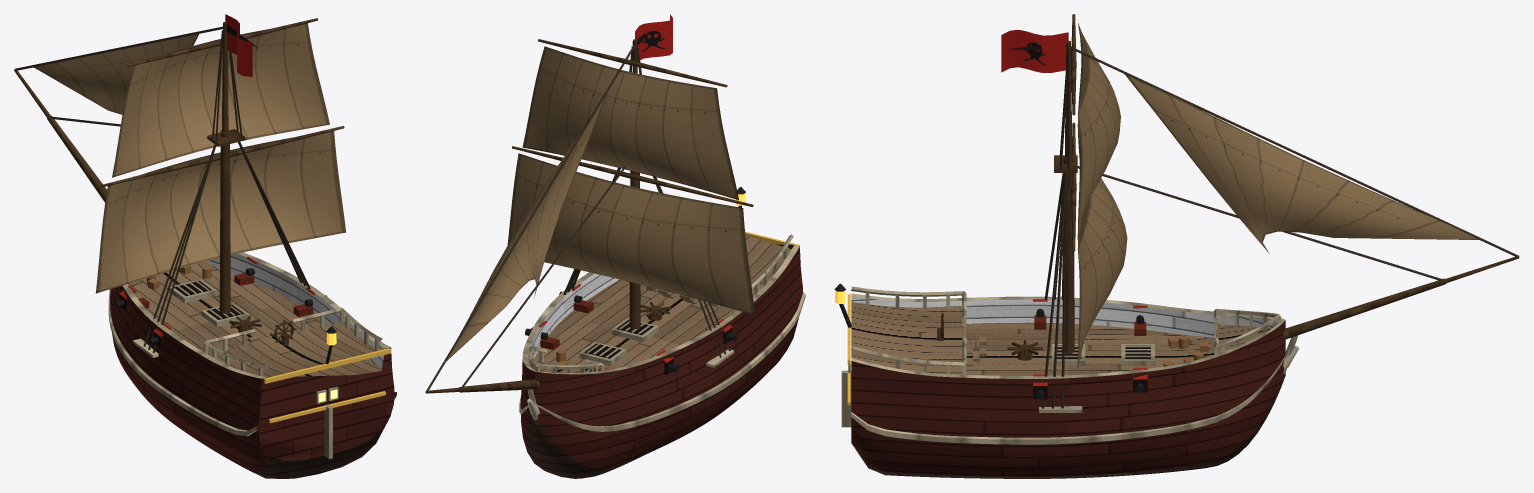
Rendered from brethren_sloop.glb.
3 renders of one model, left to right at view 1: azimuth 30°, elevation 25°; view 2: azimuth 150°, elevation 25°; view 3: azimuth 270°, elevation 25°, orthographic. The views are drawn at different scales.
Visible parts, largest first — view 1: Hull, Sail0_0, Sail0_1, Rigging, Jib, Flag, Guns0; view 2: Hull, Sail0_0, Sail0_1, Jib, Rigging, Flag, Guns0; view 3: Hull, Jib, Rigging, Sail0_0, Sail0_1, Flag.
Part boxes in pixels (bbox=[...]): Hull: bbox=[108, 252, 396, 478]; Sail0_0: bbox=[95, 131, 346, 293]; Sail0_1: bbox=[112, 23, 329, 177]; Rigging: bbox=[14, 18, 344, 353]; Jib: bbox=[34, 34, 198, 114]; Flag: bbox=[225, 14, 252, 77]; Guns0: bbox=[114, 268, 327, 344]; Hull: bbox=[519, 187, 805, 478]; Sail0_0: bbox=[507, 153, 754, 314]; Sail0_1: bbox=[522, 46, 738, 200]; Jib: bbox=[446, 93, 607, 361]; Rigging: bbox=[425, 33, 753, 393]; Flag: bbox=[635, 14, 672, 61]; Guns0: bbox=[525, 291, 737, 371]; Hull: bbox=[834, 283, 1299, 478]; Jib: bbox=[1124, 74, 1479, 253]; Rigging: bbox=[1007, 14, 1519, 408]; Sail0_0: bbox=[1077, 164, 1127, 367]; Sail0_1: bbox=[1077, 23, 1120, 239]; Flag: bbox=[1001, 29, 1068, 72].
Size of the model in its own units: 1.18 by 1.79 by 2.6.
Materials: 20 (8 with a texture image).
